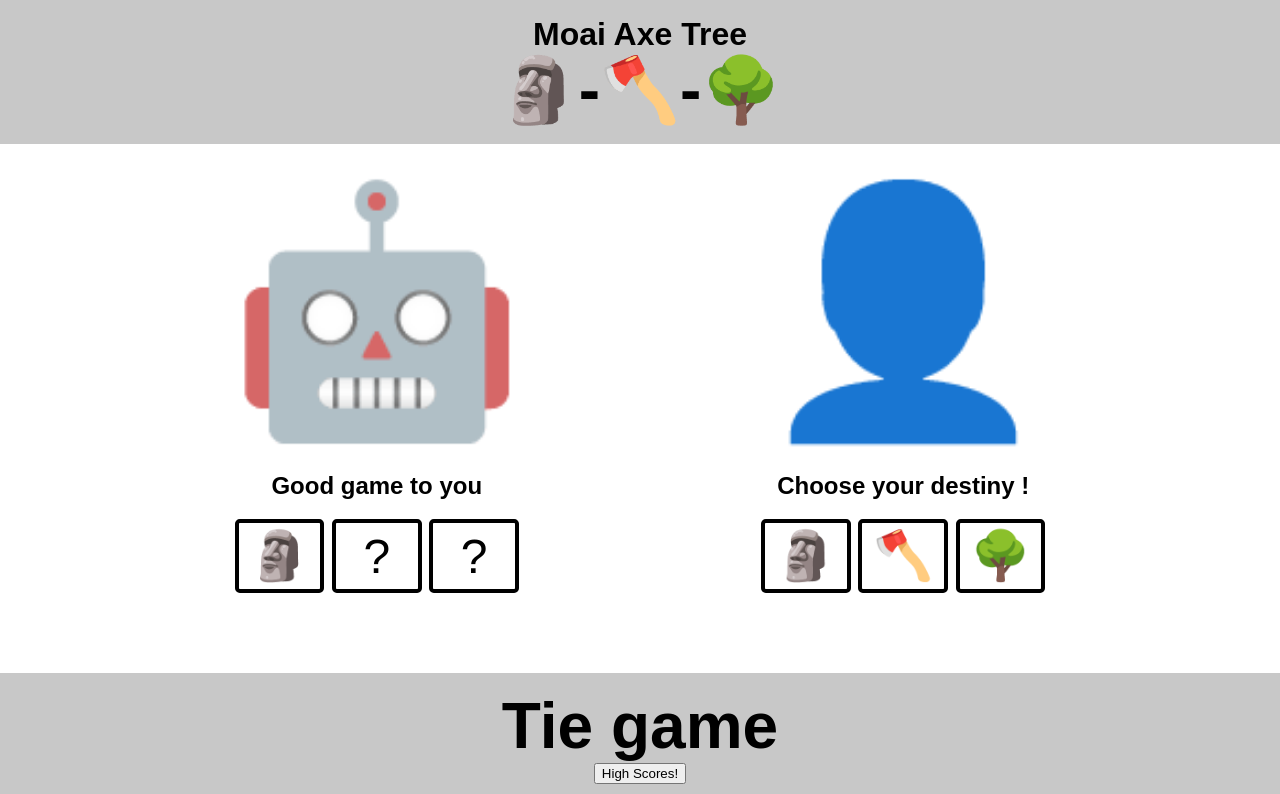
Test case: Game tests › fetched high scores
This screenshot has width=1280, height=794.
Step 1. Click the button with test id "high-scores" → click(640, 774), box [594, 763, 686, 784]
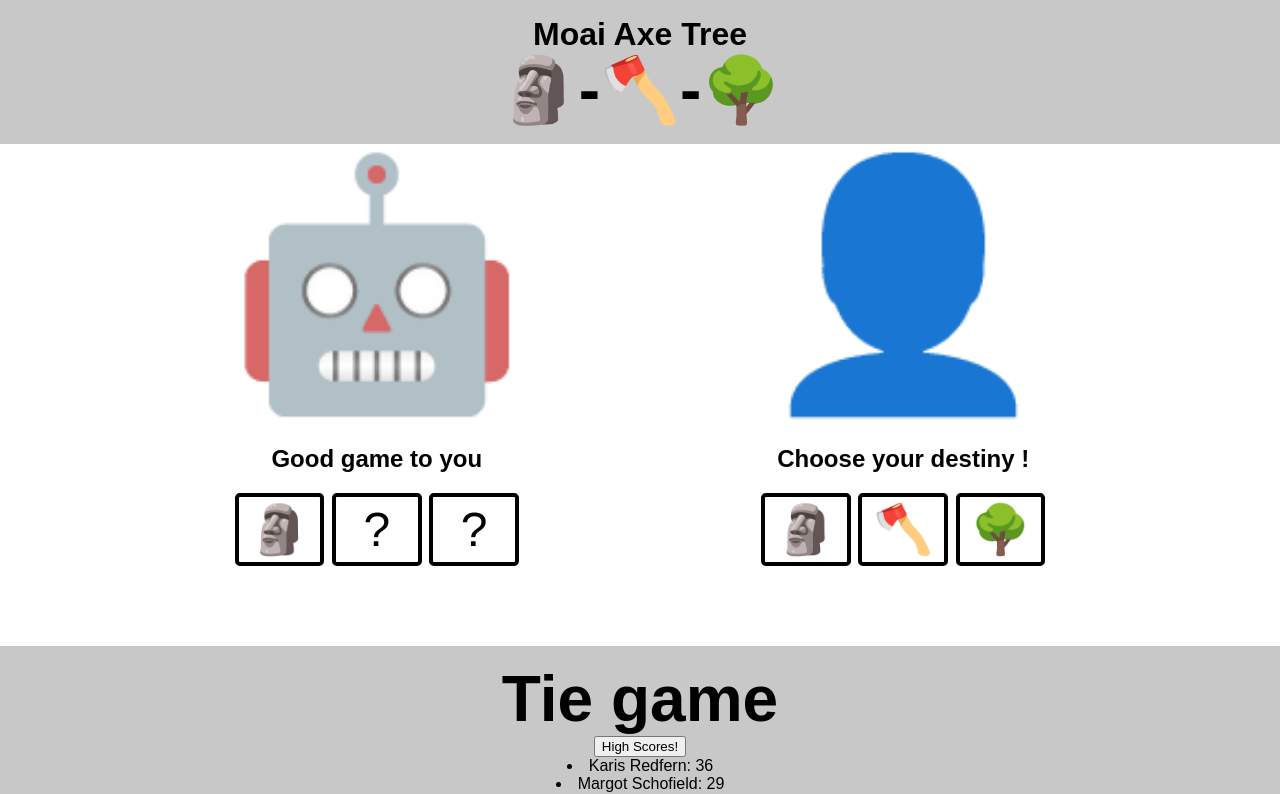
Expected: the list item "Karis" is shown, [589, 757, 687, 774]
